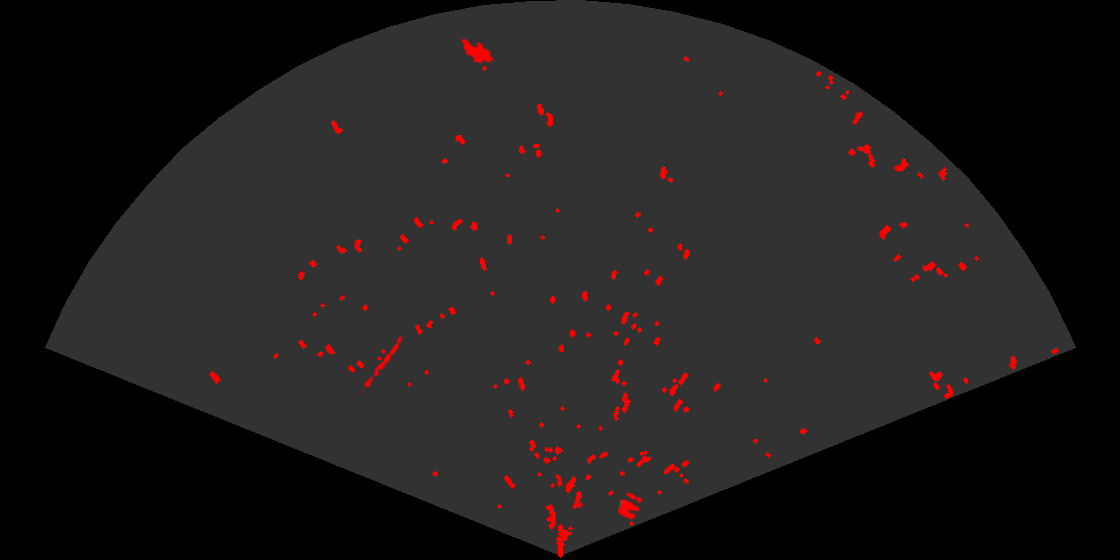AUV: (460, 37, 495, 65)
ball: (616, 491, 644, 521)
chain: (358, 335, 404, 395)
